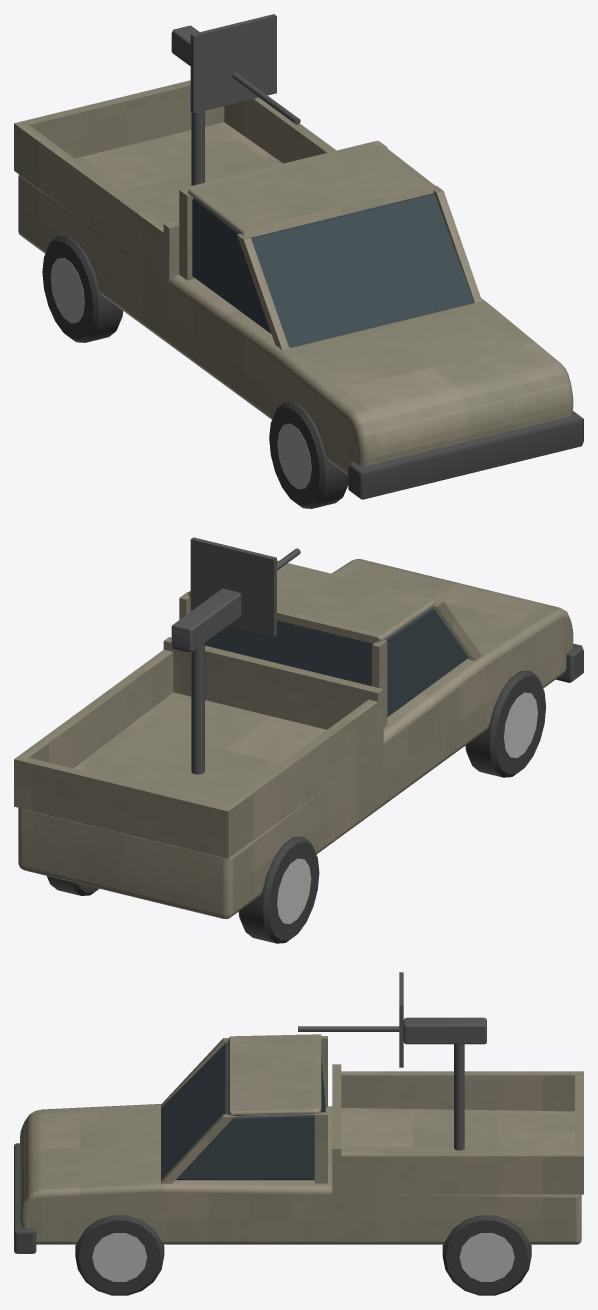
Rendered from pickup.glb.
3 views of the same model, one above another, from view 1: azimuth 30°, elevation 25°; view 2: azimuth 150°, elevation 25°; view 3: azimuth 270°, elevation 25° (orthographic). The views are drawn at different scales.
Parts seen in each view (by area): view 1: model; view 2: model; view 3: model.
Boxes of the visible parts, x1,y1,x2,y2 form: model: (14,14,583,508); model: (14,537,583,943); model: (14,972,583,1295).
Size of the model in its own units: 1.9 by 2.61 by 5.12.
Materials: 7 (1 with a texture image).
